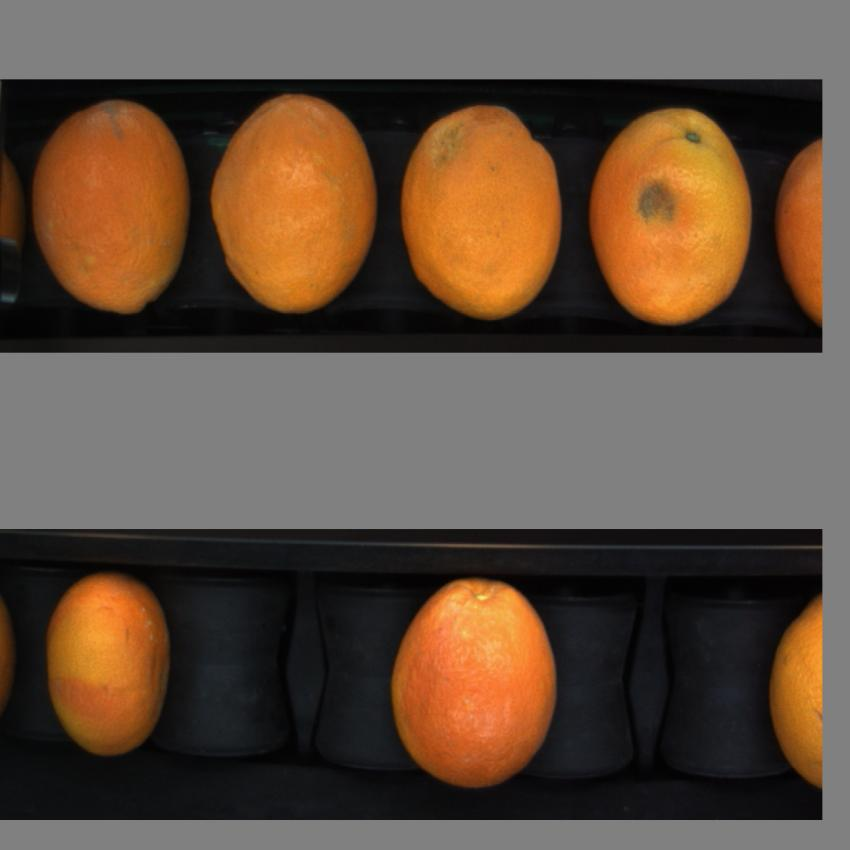Buen estado: (208, 86, 384, 326), (26, 96, 196, 334), (387, 571, 565, 797), (398, 93, 572, 324), (584, 98, 754, 334), (40, 563, 176, 767), (760, 580, 826, 808), (773, 125, 823, 325)
